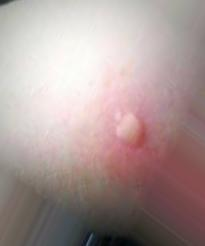Mosquito: (115, 112, 145, 147)
